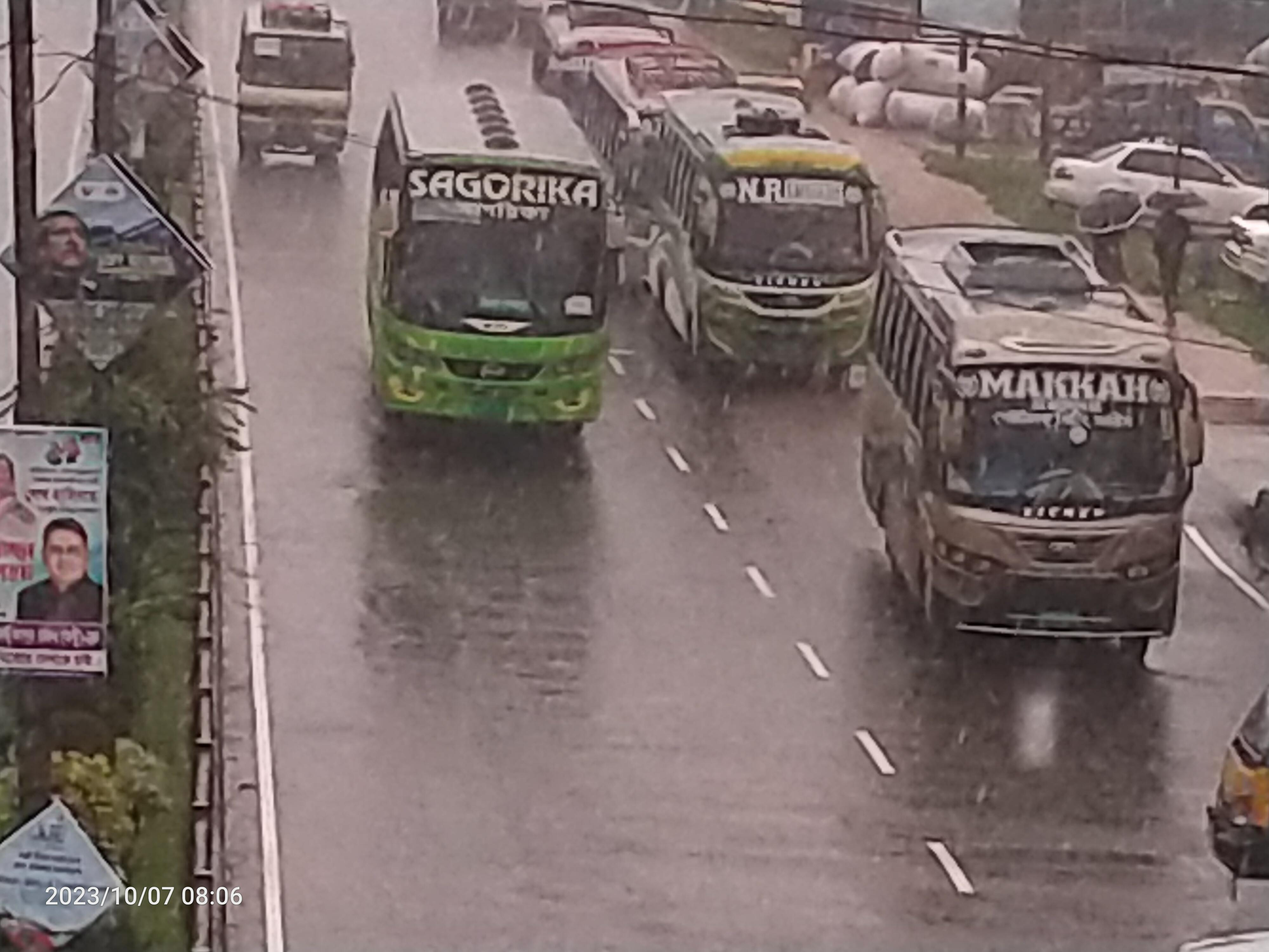Bus: (840, 207, 1219, 715), (343, 72, 634, 479), (619, 71, 916, 421), (222, 4, 381, 187)
Car: (1026, 127, 1269, 243), (1221, 182, 1269, 291)
